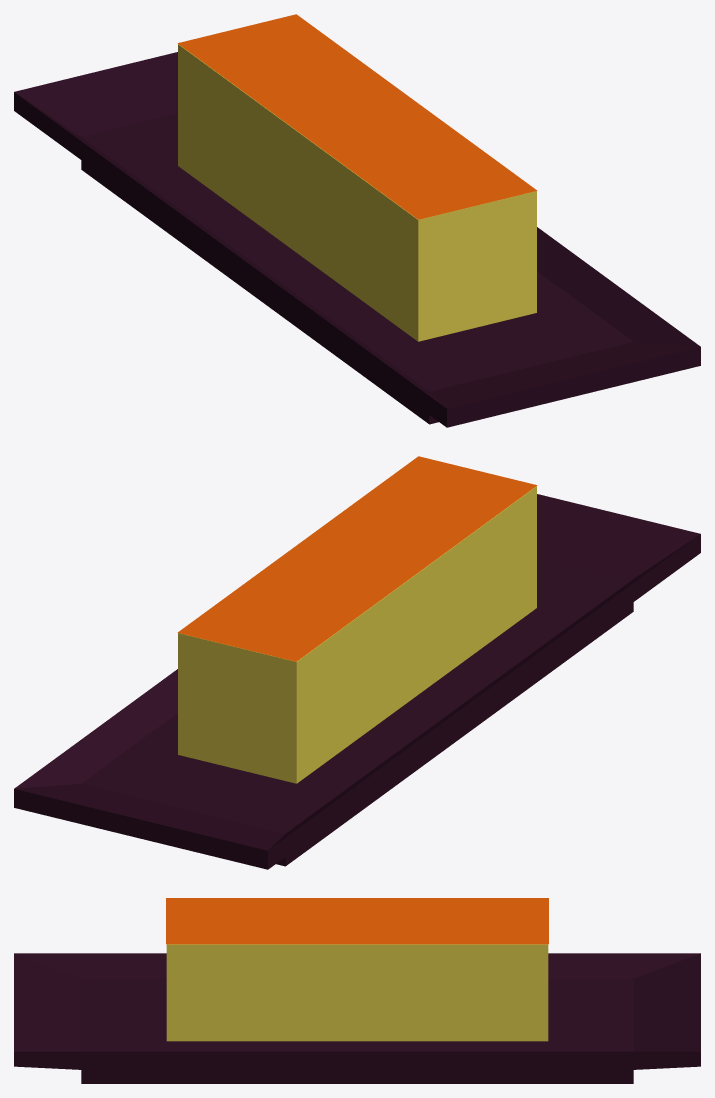
The model's file is bika ambon.fbx.
3 renders of one model, top to bottom at view 1: azimuth 30°, elevation 25°; view 2: azimuth 150°, elevation 25°; view 3: azimuth 270°, elevation 25°, orthographic. The views are drawn at different scales.
Parts seen in each view (by area): view 1: Cube, Cube.001, Plane; view 2: Cube, Cube.001, Plane; view 3: Cube, Cube.001, Plane.
Boxes of the visible parts, x1,y1,x2,y2 form: Cube: (14, 52, 700, 427); Cube.001: (178, 44, 536, 341); Plane: (177, 14, 537, 219); Cube: (14, 494, 700, 869); Cube.001: (178, 486, 536, 783); Plane: (177, 456, 537, 661); Cube: (14, 953, 700, 1083); Cube.001: (166, 944, 548, 1041); Plane: (166, 898, 548, 944).
Size of the model in its own units: 95.7 by 55.84 by 282.
